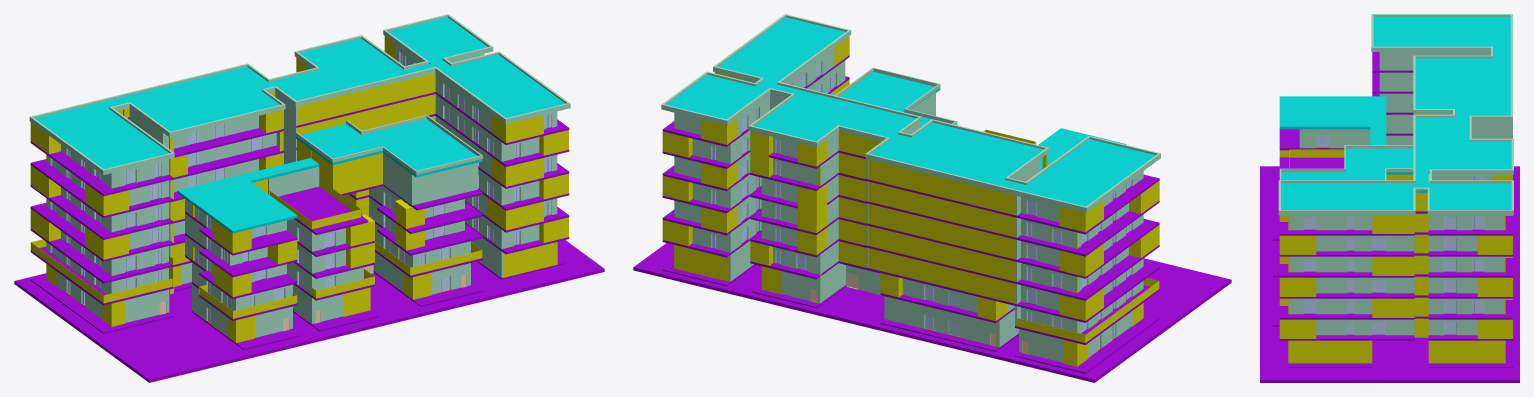
The model's file is reseau-optimized.glb.
3 renders of one model, left to right at view 1: azimuth 30°, elevation 25°; view 2: azimuth 150°, elevation 25°; view 3: azimuth 270°, elevation 25°, orthographic. The views are drawn at different scales.
Size of the model in its own units: 72 by 25.27 by 37.
Materials: 1 (1 with a texture image).
